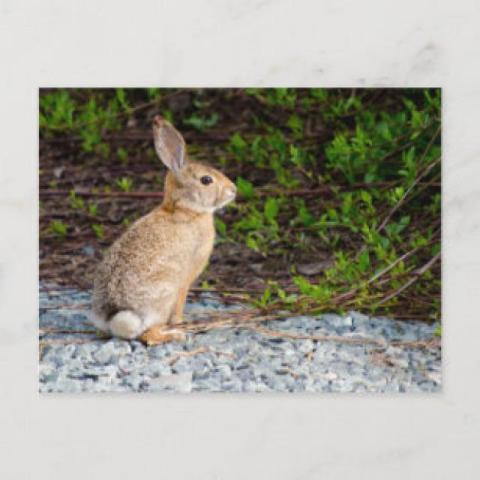small_animal: (87, 113, 239, 347)
